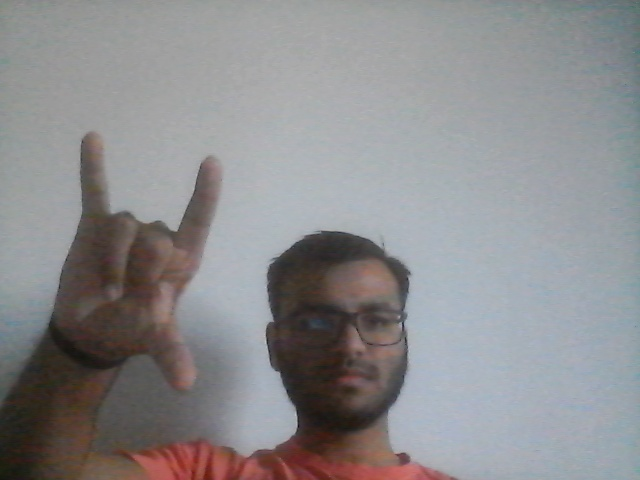I Love You: (52, 129, 229, 397)
